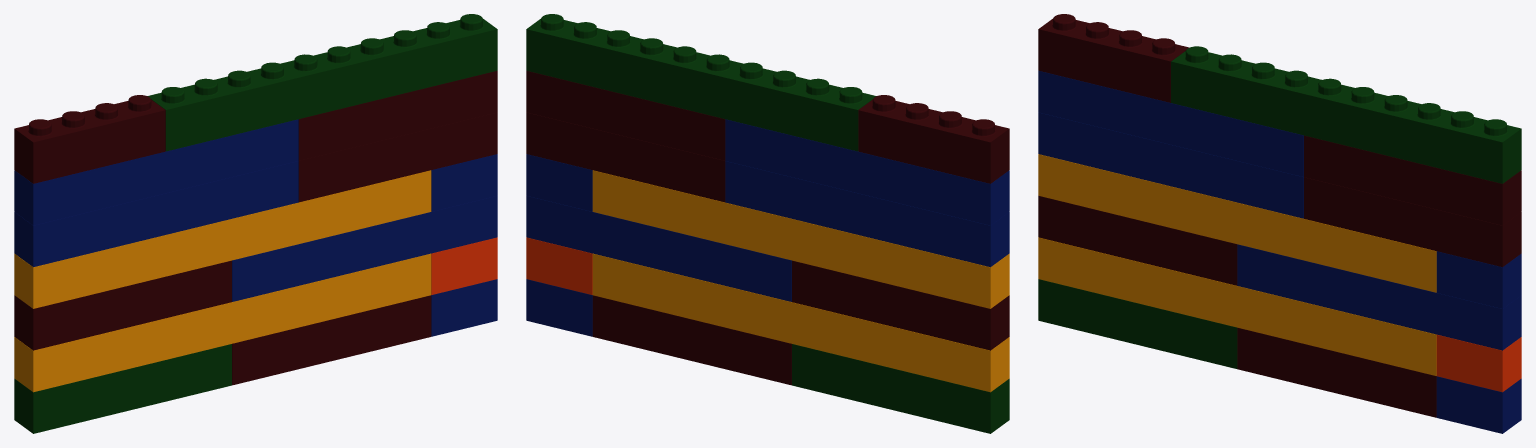
The picture shows the model from 3 angles, left to right: view 1: azimuth 30°, elevation 25°; view 2: azimuth 150°, elevation 25°; view 3: azimuth 330°, elevation 25°; orthographic projection.
Visible parts, largest first — view 1: Part.13, Part.7, Part.1, Part.12, Part.9, Part.3, Part.6, Part.0, Part.14, Part.2, Part.8, Part.11 (+3 smaller); view 2: Part.13, Part.7, Part.1, Part.12, Part.9, Part.3, Part.6, Part.0, Part.14, Part.2, Part.8, Part.11 (+3 smaller); view 3: Part.13, Part.1, Part.7, Part.3, Part.9, Part.12, Part.11, Part.8, Part.2, Part.6, Part.0, Part.14 (+3 smaller).
Boxes of the visible parts, <box> form: Part.13: <box>147,14,497,151</box>; Part.7: <box>14,170,431,308</box>; Part.1: <box>14,253,431,392</box>; Part.12: <box>14,119,298,225</box>; Part.9: <box>14,161,298,267</box>; Part.3: <box>232,195,497,301</box>; Part.6: <box>14,260,231,350</box>; Part.0: <box>14,344,231,433</box>; Part.14: <box>14,95,165,183</box>; Part.2: <box>232,295,431,385</box>; Part.8: <box>298,112,497,202</box>; Part.11: <box>298,70,497,160</box>; Part.13: <box>526,14,876,151</box>; Part.7: <box>592,170,1009,308</box>; Part.1: <box>592,253,1009,392</box>; Part.12: <box>725,119,1009,225</box>; Part.9: <box>725,161,1009,267</box>; Part.3: <box>526,195,791,301</box>; Part.6: <box>792,260,1009,350</box>; Part.0: <box>792,344,1009,433</box>; Part.14: <box>858,95,1009,183</box>; Part.2: <box>592,295,791,385</box>; Part.8: <box>526,112,725,202</box>; Part.11: <box>526,70,725,160</box>; Part.13: <box>1171,46,1521,183</box>; Part.1: <box>1038,237,1436,375</box>; Part.7: <box>1038,154,1436,292</box>; Part.3: <box>1237,244,1521,350</box>; Part.9: <box>1038,112,1303,218</box>; Part.12: <box>1038,70,1303,176</box>; Part.11: <box>1304,135,1521,225</box>; Part.8: <box>1304,177,1521,267</box>; Part.2: <box>1237,327,1436,417</box>; Part.6: <box>1038,195,1237,285</box>; Part.0: <box>1038,279,1237,368</box>; Part.14: <box>1038,14,1189,102</box>.
Size of the model in its own units: 112 by 68.98 by 7.92.
